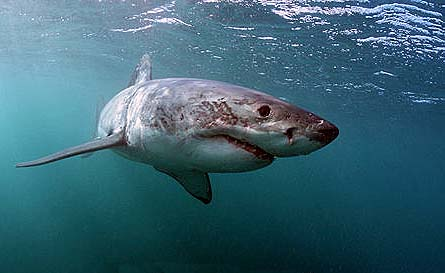Carcharodon_carcharias: (9, 50, 350, 210)
